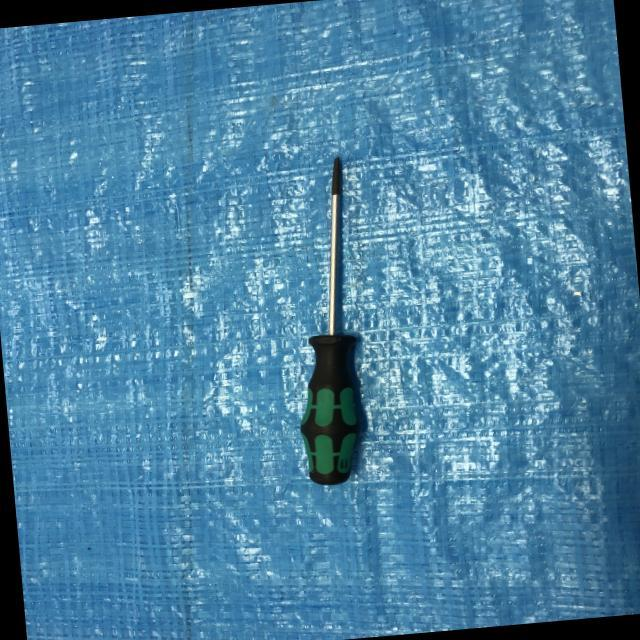screwdriver: (266, 148, 396, 488)
